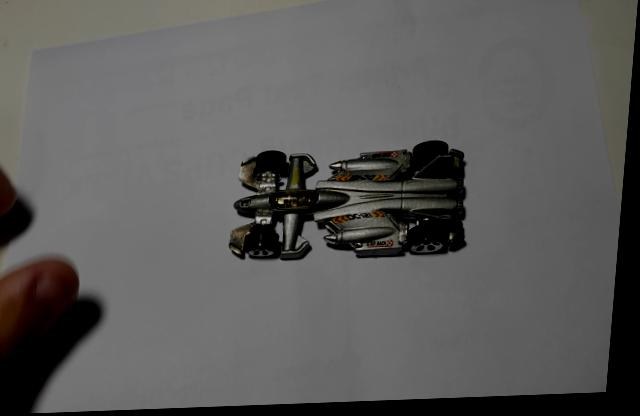05_DC121: (231, 144, 473, 266)
